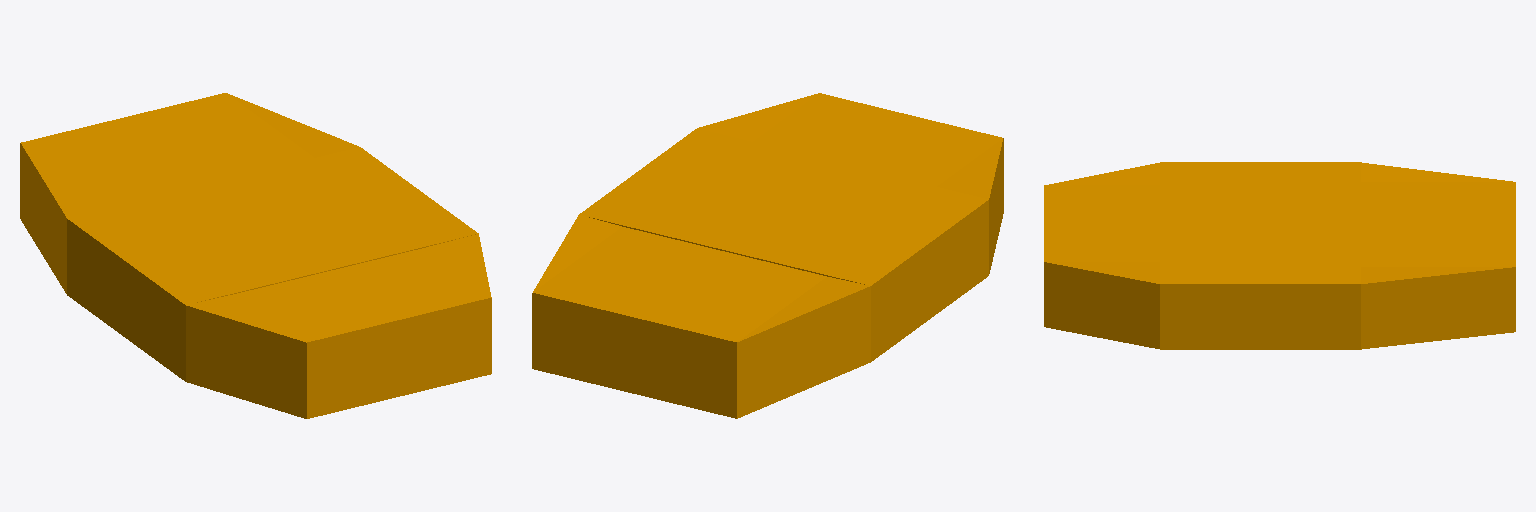
robot.urdf — robot:
<robot>
    <link name="base_link">
        <inertial>
            <mass value="1" />
        </inertial>
        <visual>
            <geometry>
                <mesh filename="package://rover_description/urdf/frame.stl" />
            </geometry>
            <material name="white" />
        </visual>
    </link>
    <material name="white">
        <color rgba="1.0,1.0,1.0,1.0" />
    </material>
</robot>

--- Facts derived from the render (not from the file) ---
The picture shows the robot from 3 angles, left to right: view 1: azimuth 30°, elevation 25°; view 2: azimuth 150°, elevation 25°; view 3: azimuth 270°, elevation 25°; orthographic projection.
Model robot with 1 links and 0 joints (none), rooted at base_link, posed all joints at 0.
Links seen in each view (by area): view 1: base_link; view 2: base_link; view 3: base_link.
Link boxes in pixels (x1=…): base_link: x1=20, y1=93, x2=491, y2=418; base_link: x1=532, y1=93, x2=1003, y2=418; base_link: x1=1044, y1=162, x2=1515, y2=349.
Size in the robot's own frame: 1 by 1.64 by 0.2542 metres.
Meshes: 1 distinct files referenced, 1 mesh visuals loaded (1 binary STL).